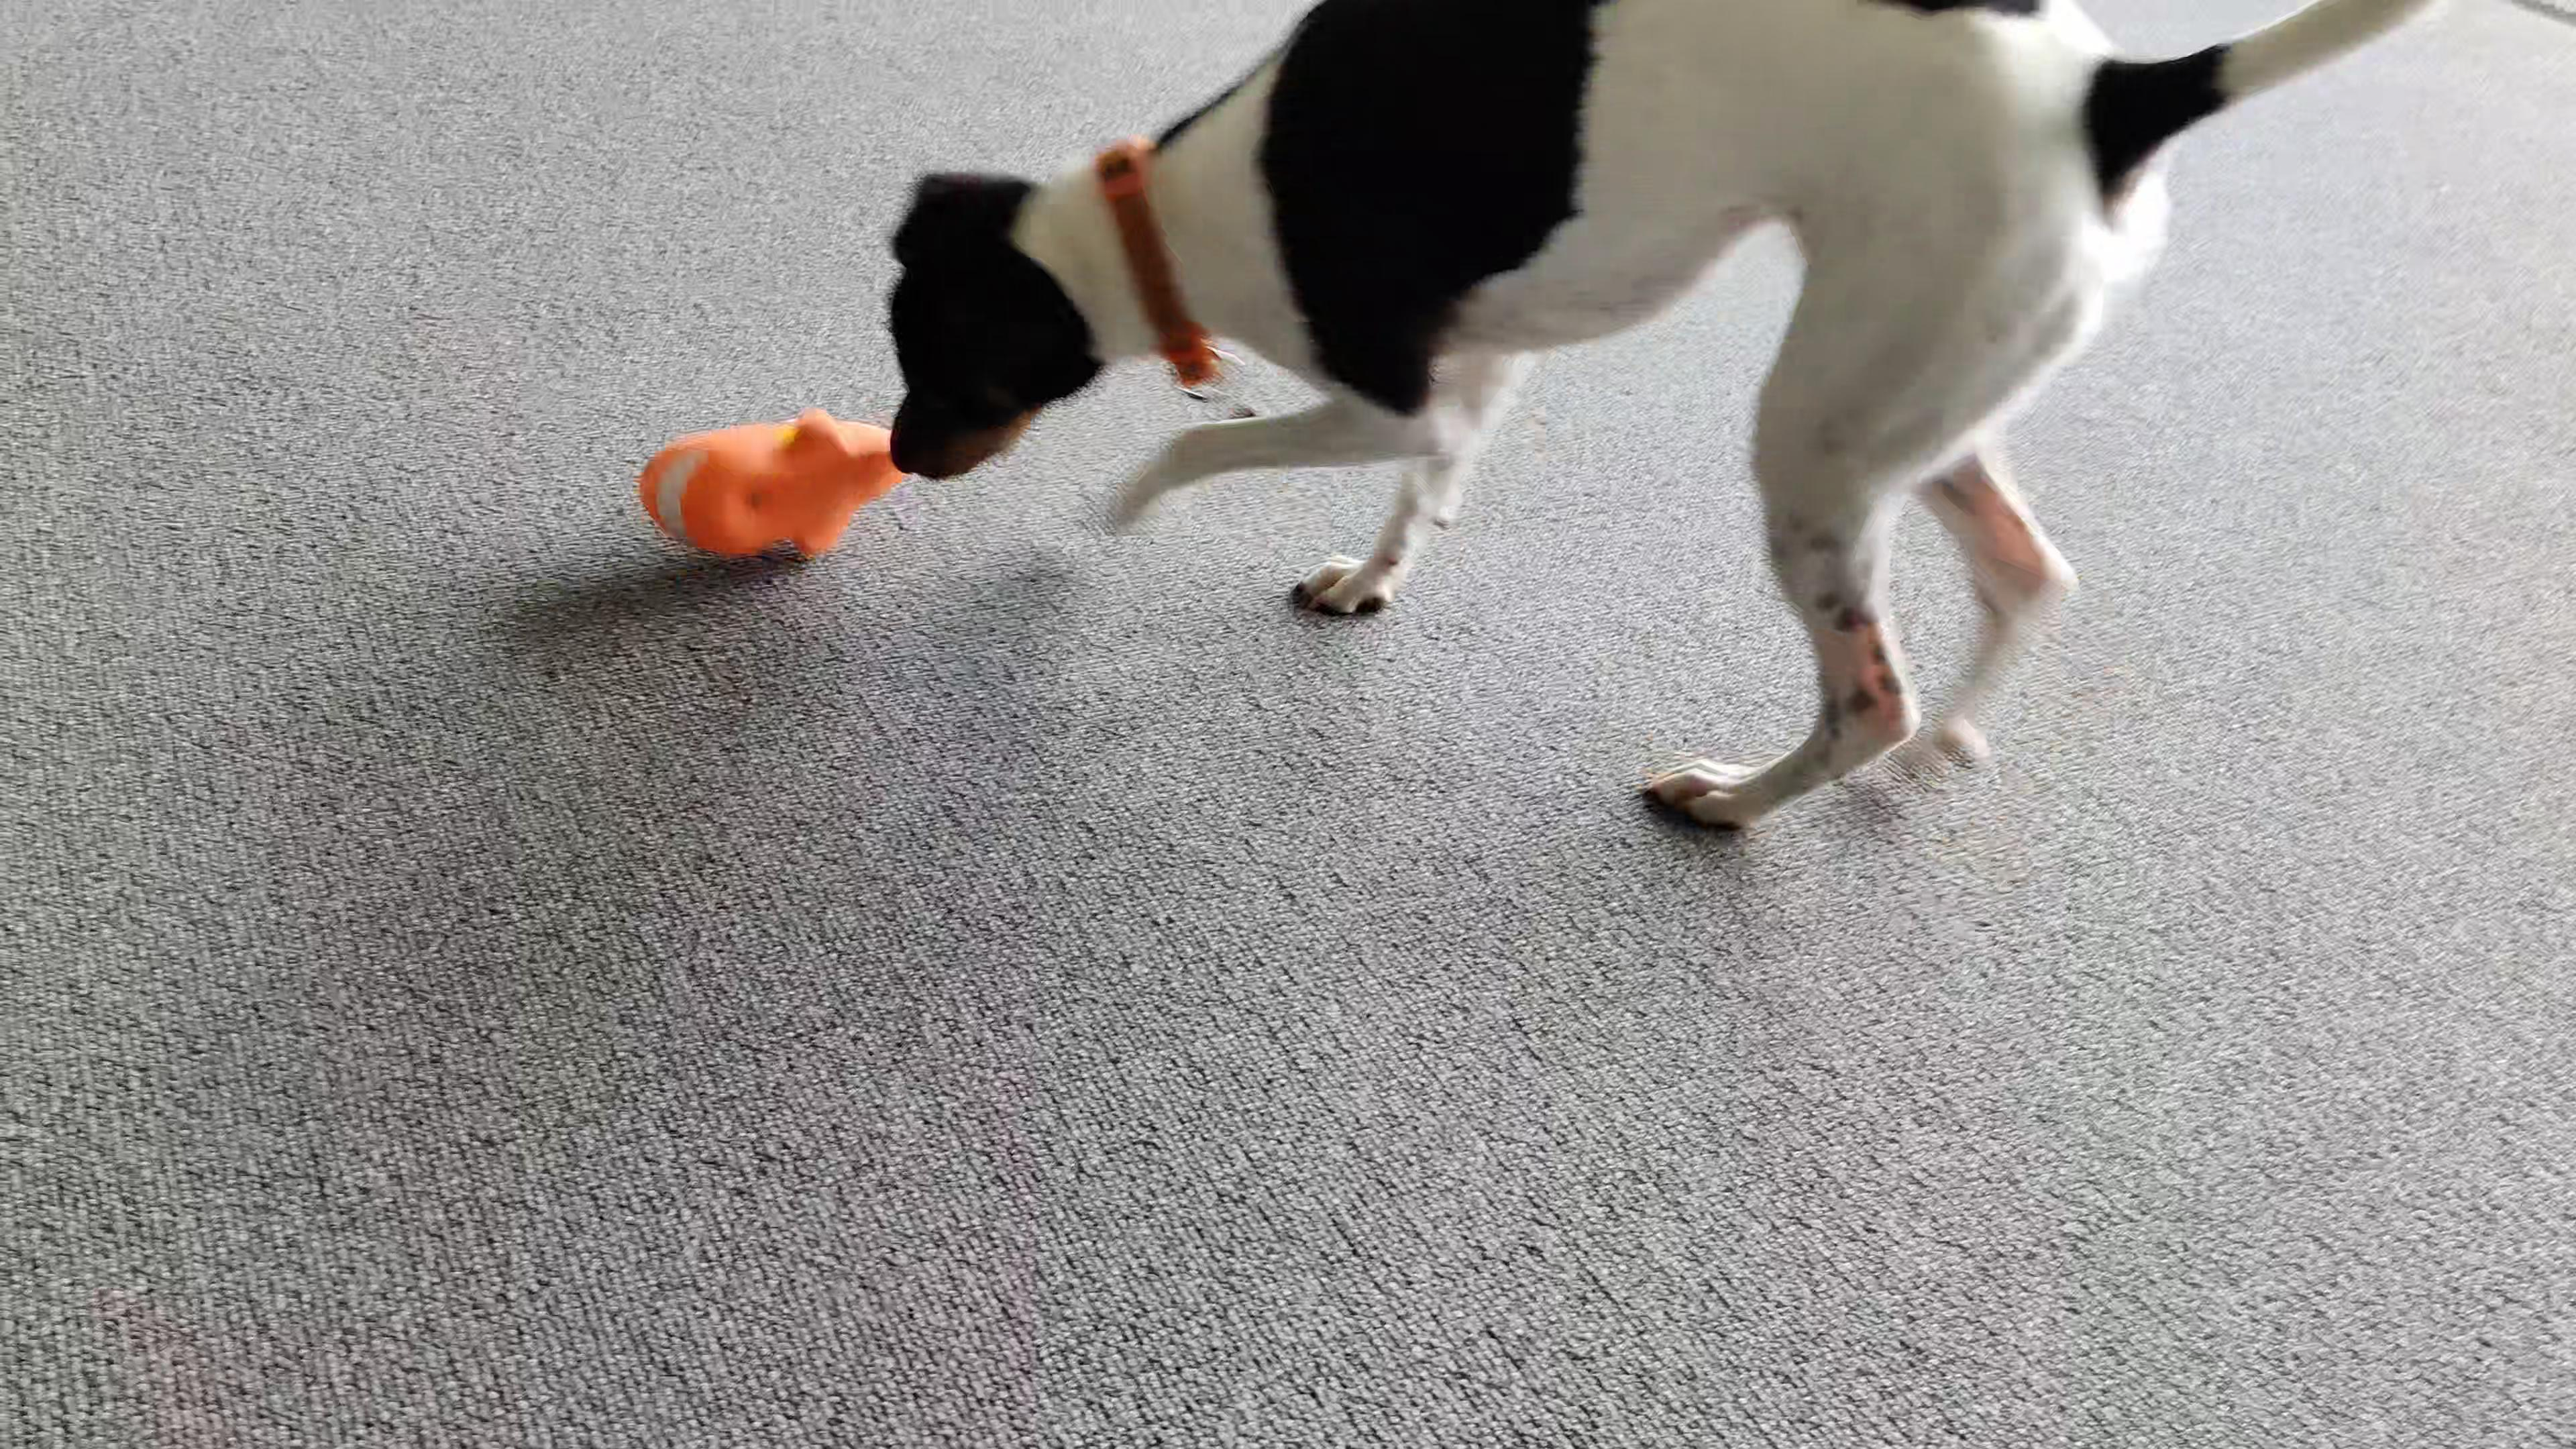Dog: (865, 0, 2454, 865)
